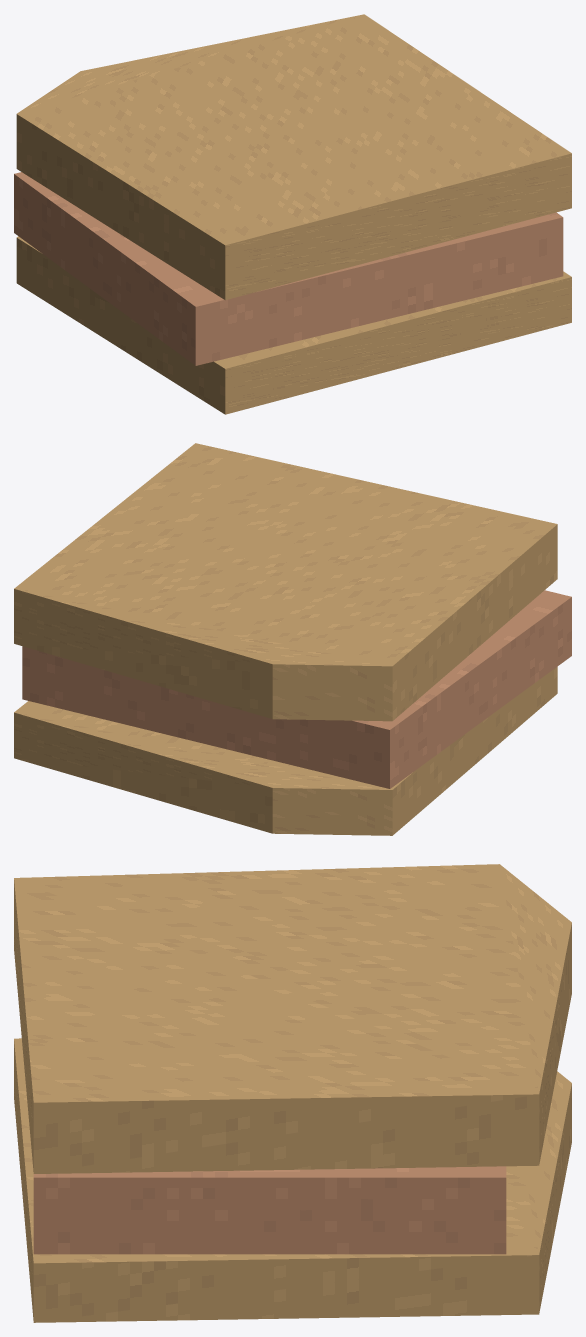
Rendered from fish_sandwich.glb.
3 views of the same model, one above another, from view 1: azimuth 30°, elevation 25°; view 2: azimuth 150°, elevation 25°; view 3: azimuth 270°, elevation 25° (orthographic). The views are drawn at different scales.
Parts seen in each view (by area): view 1: block_upper slice, block_filling, block_lower slice; view 2: block_upper slice, block_filling, block_lower slice; view 3: block_upper slice, block_lower slice, block_filling.
Boxes of the visible parts, x1,y1,x2,y2 form: block_upper slice: [16, 14, 571, 300]; block_filling: [14, 172, 563, 365]; block_lower slice: [16, 236, 571, 414]; block_upper slice: [14, 443, 557, 721]; block_filling: [22, 590, 571, 788]; block_lower slice: [14, 666, 557, 835]; block_upper slice: [14, 864, 571, 1173]; block_lower slice: [14, 1038, 571, 1322]; block_filling: [33, 1166, 506, 1254].
Bounding box in the file's own units: 0.1437 × 0.0618 × 0.142.
Materials: 1 (1 with a texture image).
